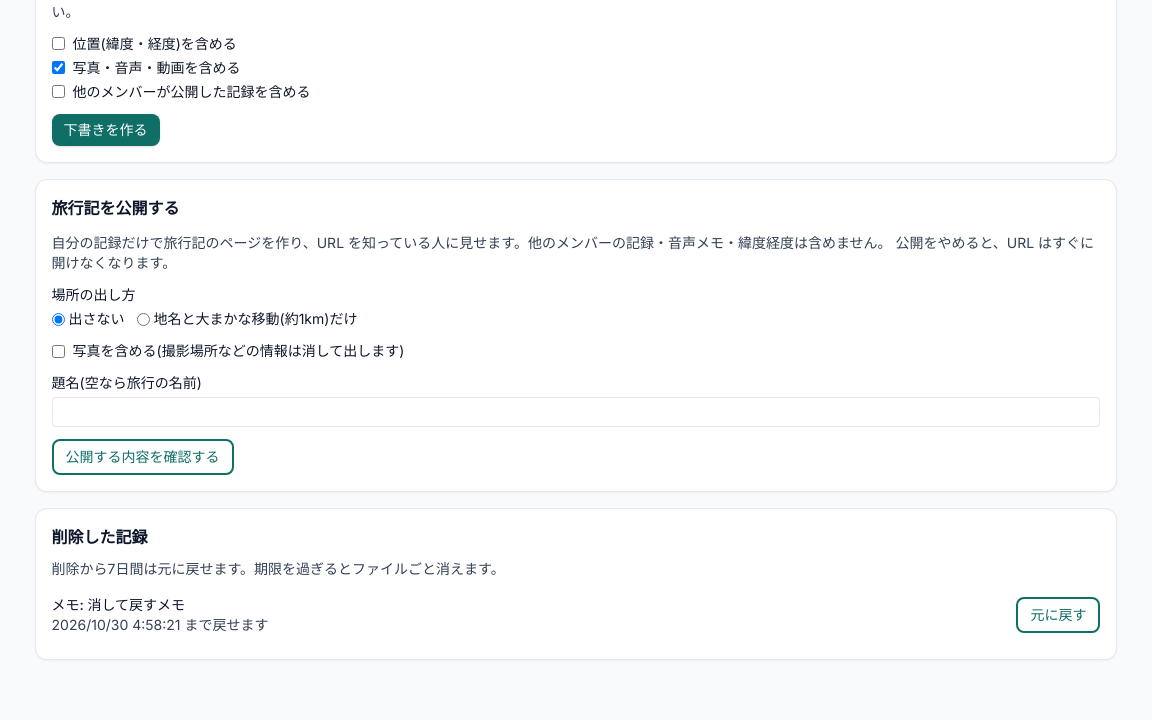
Scenario: MemoriesPage (Gate P12) › [Gate G6] 削除した記録の一覧から元に戻せる
(page scrolled)
Expected: the element "削除した記録" shows "メモ: 消して戻すメモ", [52, 596, 185, 613]
What coordinates should you click on to do the following:
click the button with aria-label "消して戻すメモを元に戻す"
I would click on:
 (1058, 615)
Its box is [1016, 597, 1100, 633].
(page scrolled)
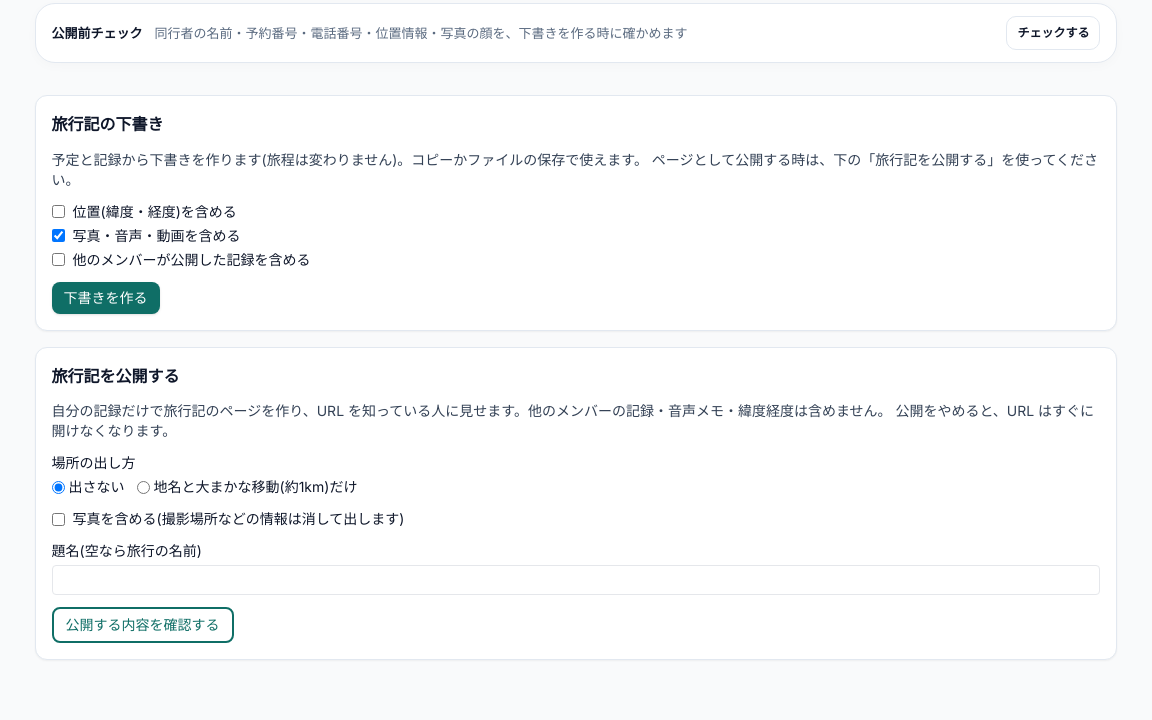
Expected: the heading "削除した記録" is gone
